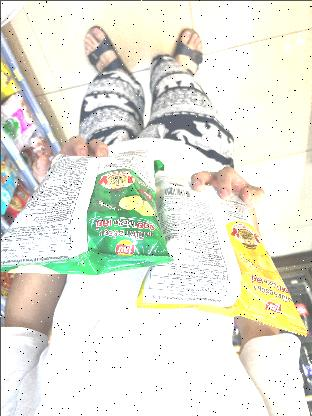Others: (138, 167, 306, 338), (0, 149, 170, 278)
